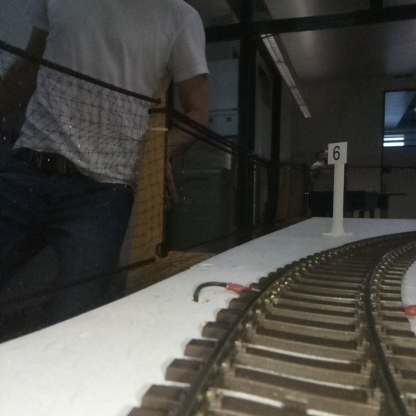white-info-6: (328, 142, 346, 235)
